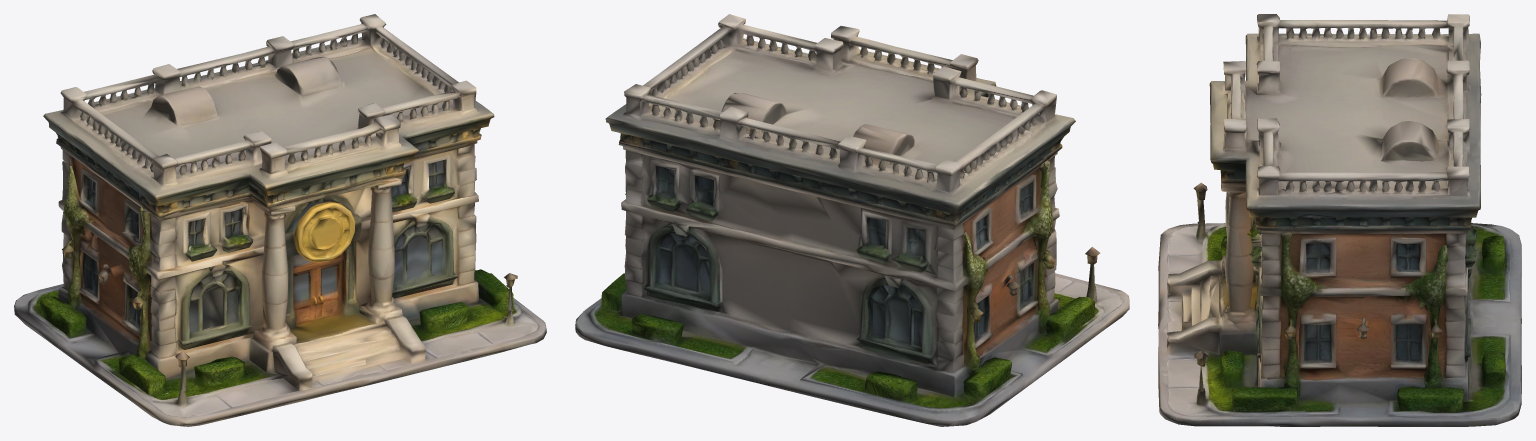
Rendered from bank.glb.
3 views of the same model, side by side, from view 1: azimuth 30°, elevation 25°; view 2: azimuth 150°, elevation 25°; view 3: azimuth 270°, elevation 25° (orthographic). The views are drawn at different scales.
Parts seen in each view (by area): view 1: tripo_node_9a193239-6a53-4c1f-9297-19f703019e7c; view 2: tripo_node_9a193239-6a53-4c1f-9297-19f703019e7c; view 3: tripo_node_9a193239-6a53-4c1f-9297-19f703019e7c.
Part boxes in pixels (x1,y1,x2,y2): tripo_node_9a193239-6a53-4c1f-9297-19f703019e7c: [14, 14, 546, 426]; tripo_node_9a193239-6a53-4c1f-9297-19f703019e7c: [575, 14, 1129, 426]; tripo_node_9a193239-6a53-4c1f-9297-19f703019e7c: [1158, 14, 1521, 426].
Bounding box in the file's own units: 0.9996 × 0.5521 × 0.7751.
Materials: 1 (1 with a texture image).
